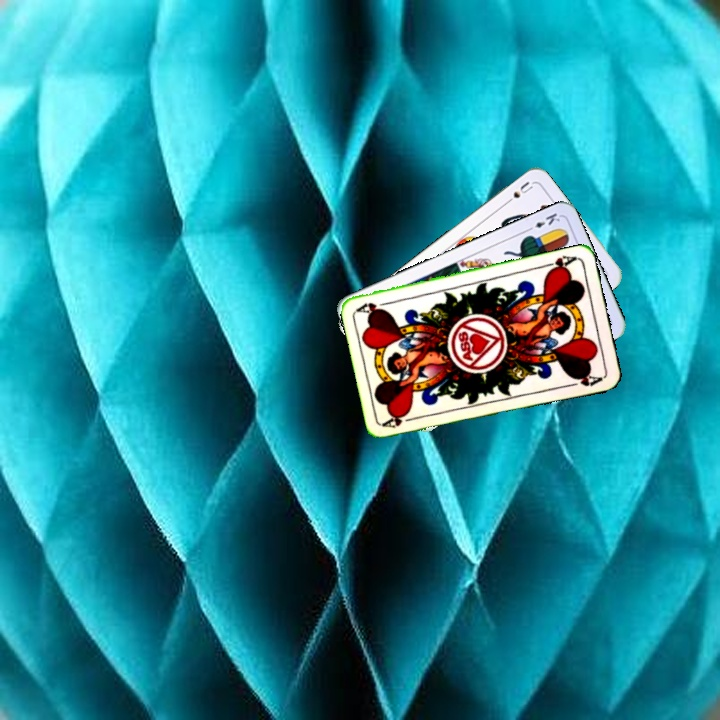EK: (523, 209, 563, 234)
HA: (539, 251, 579, 275), (380, 409, 421, 431)
SU: (500, 177, 536, 208)
